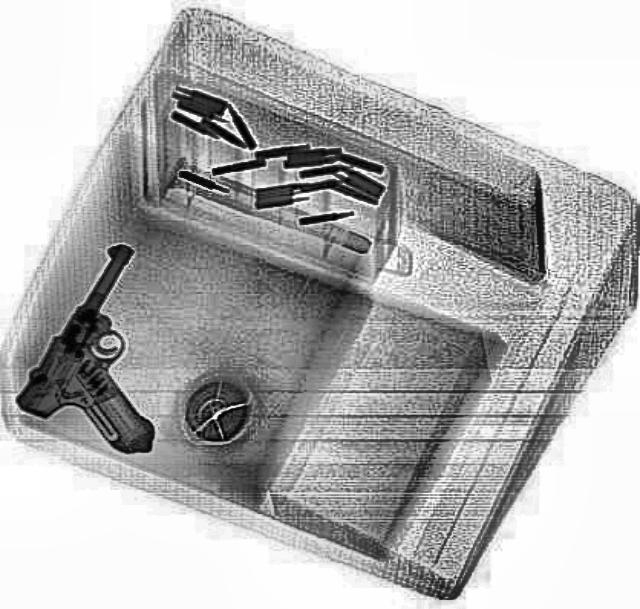Gun: (2, 238, 246, 468)
